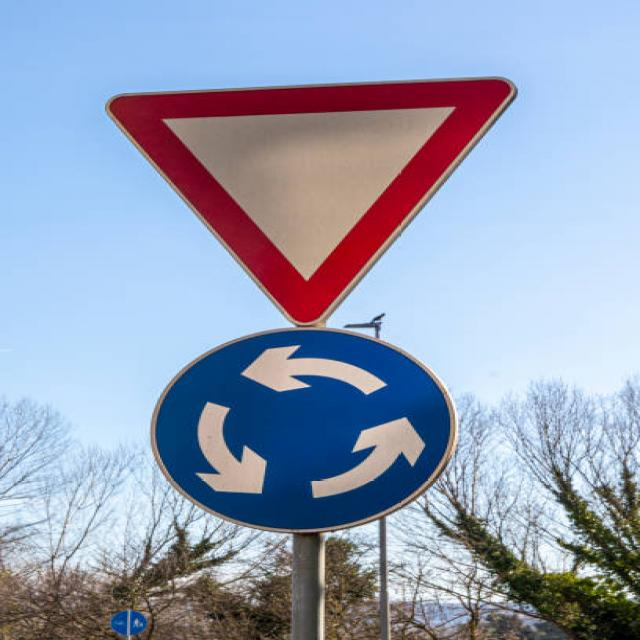round_about: (148, 323, 463, 536)
